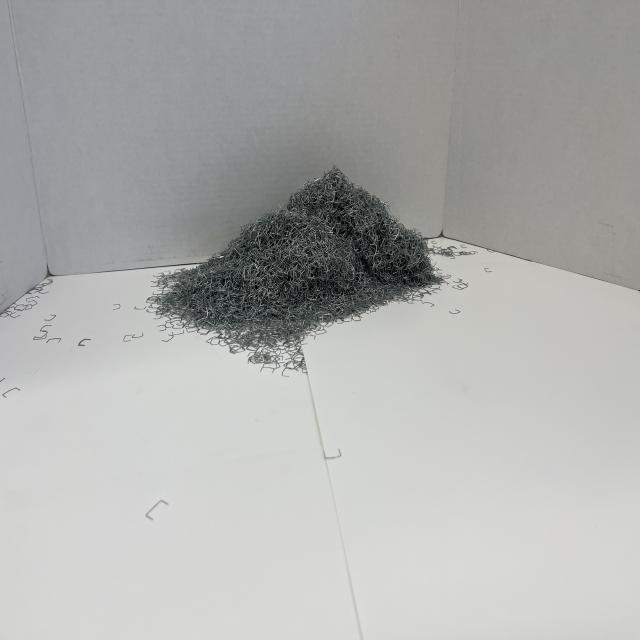staples: (145, 163, 440, 376)
